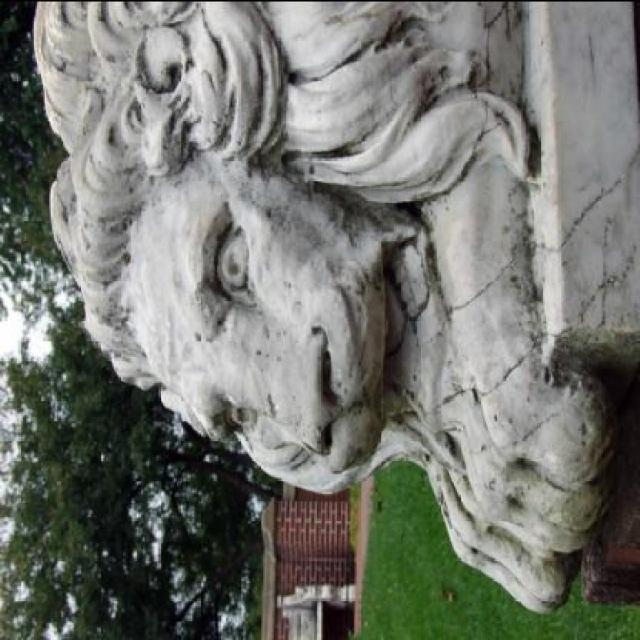Lion: (79, 58, 542, 530)
